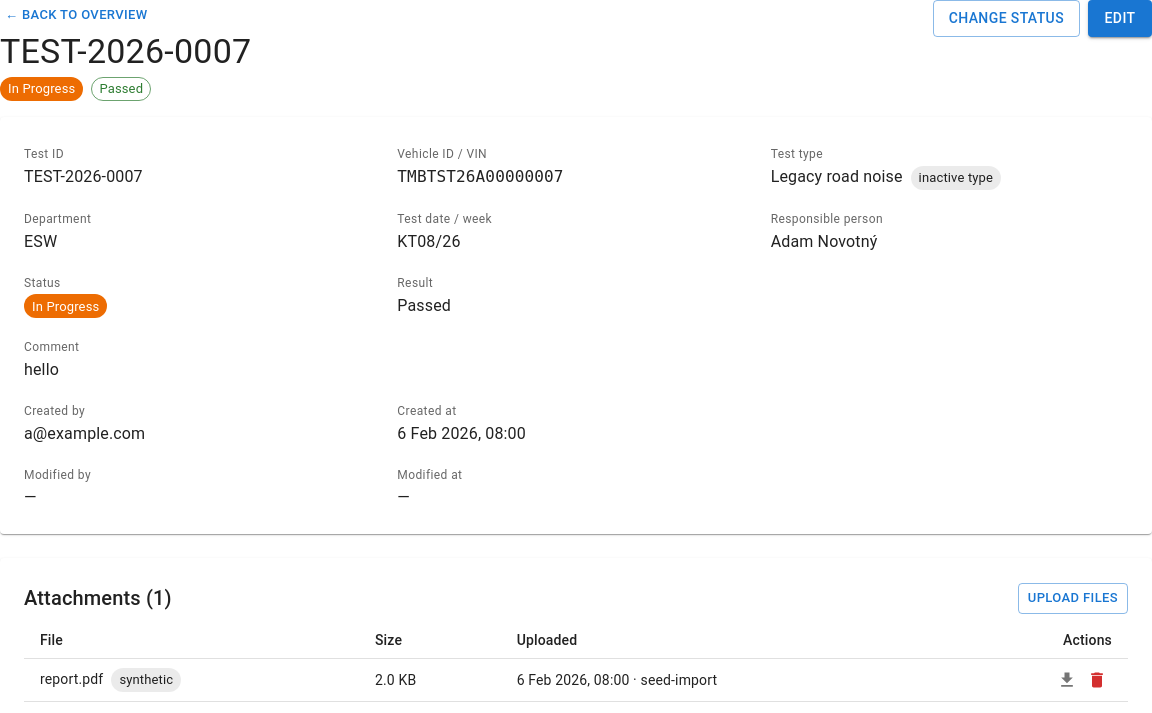
it: Role based UI (backend enforces the same rules) › Editor sees edit, upload and delete controls; deleting asks for confirmation
The image size is (1152, 713).
Expected: the link "Edit" is shown, [1088,0,1151,36]
Expected: the button with test id "upload-input" is shown, [1018,583,1128,614]
Step 1. Click the button named "delete report.pdf" → {"x": 1097, "y": 680}, box [1082,665,1112,695]
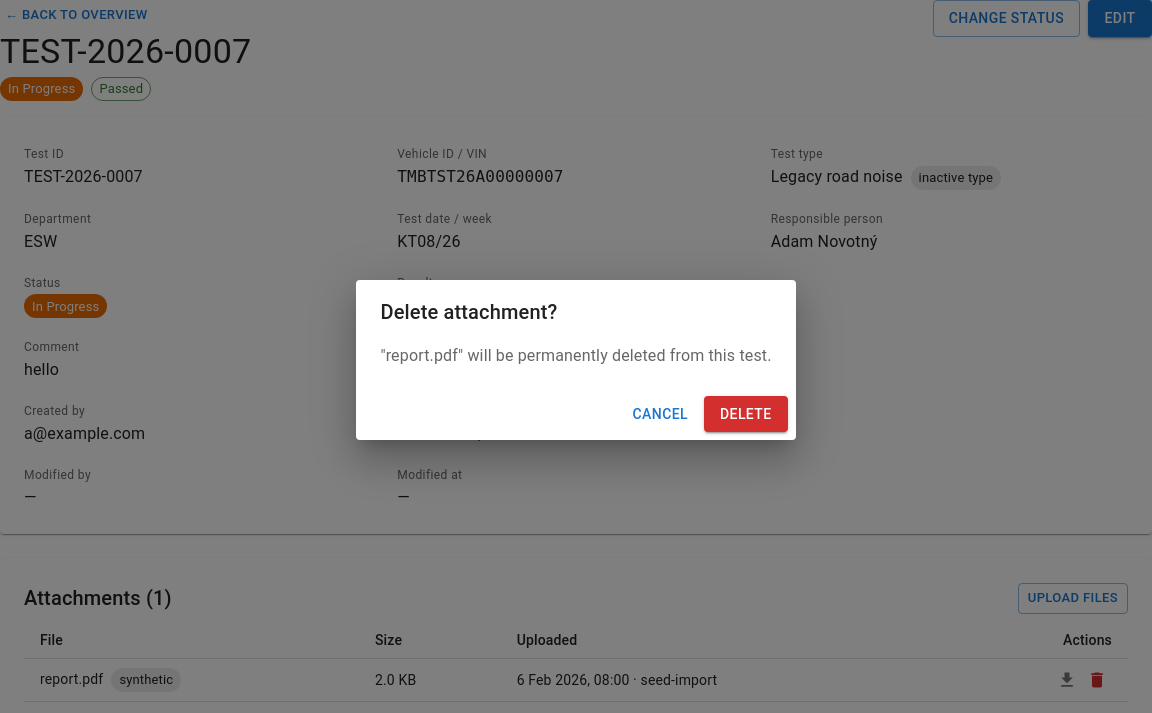
Expected: the heading "Delete attachment?" is shown, [380,300,557,324]
